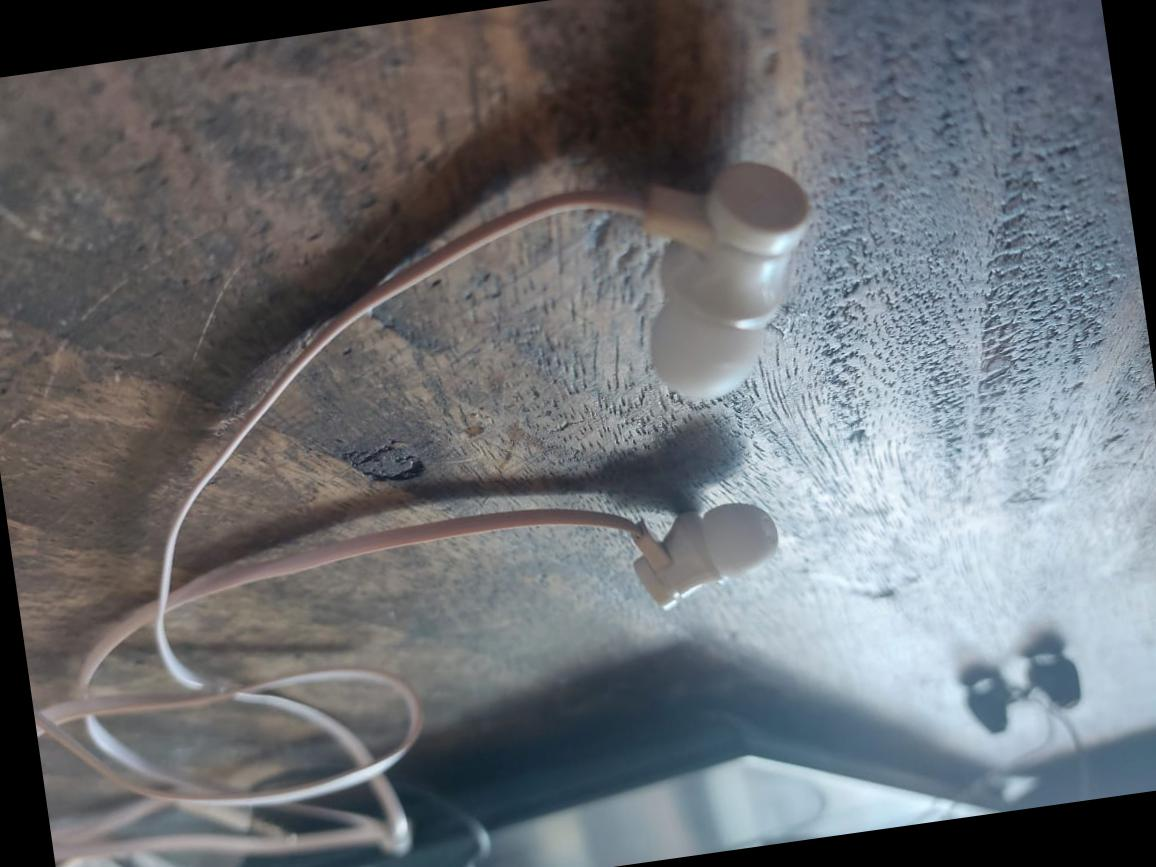Earphone: (604, 136, 847, 421), (620, 476, 795, 624)
